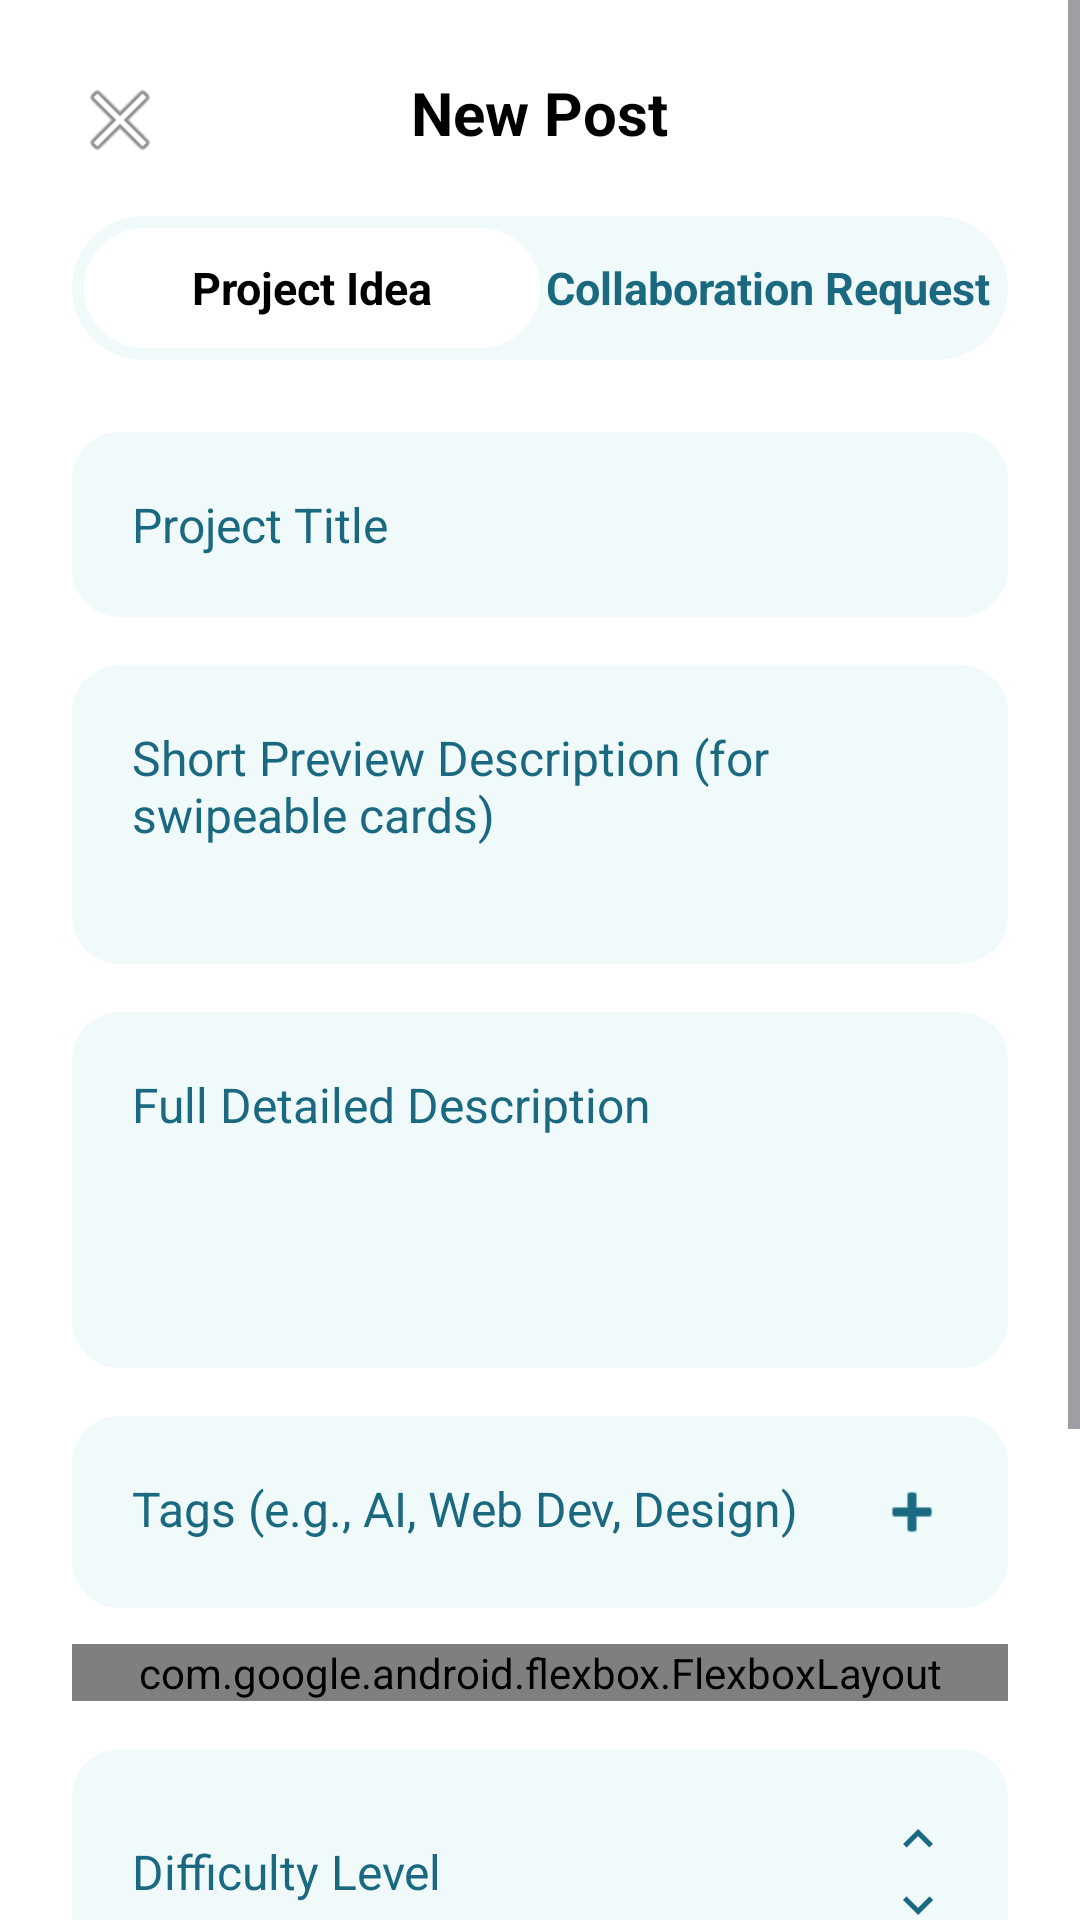

Icon bounding boxes for this 1080px x 1920px phone screenshot, format (x1, y1, x2, y2):
Add tag: (892, 1492, 932, 1532)
Close: (90, 90, 150, 150)
Increase difficulty: (903, 1829, 933, 1848)
